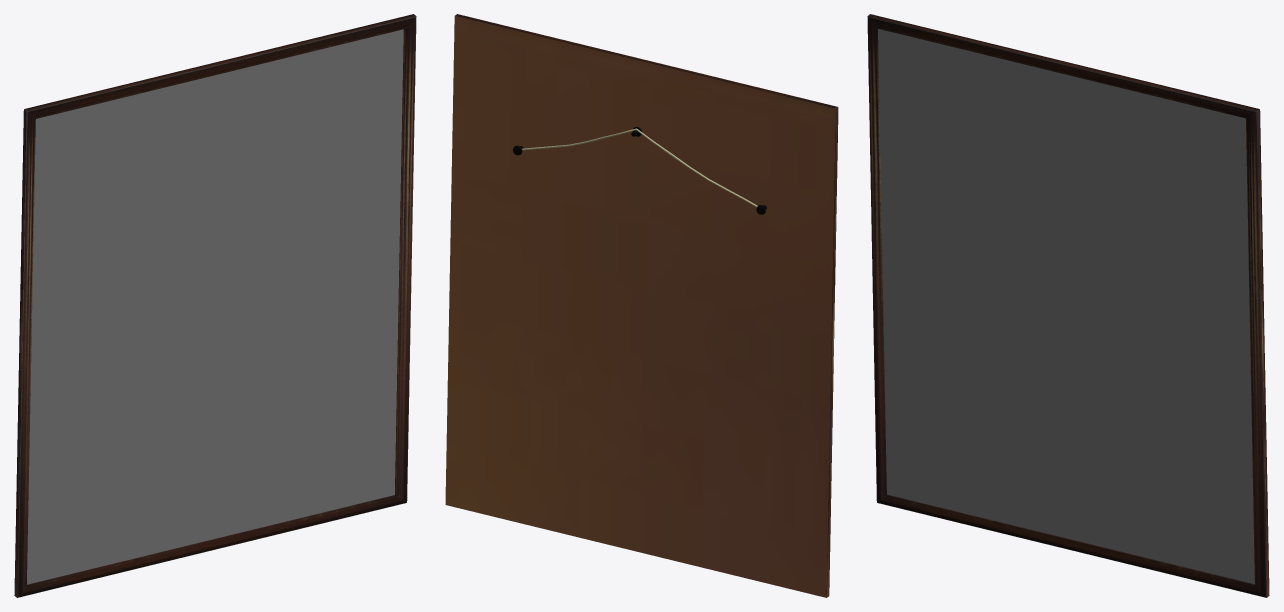
The model's file is Picture1.FBX.
3 renders of one model, left to right at view 1: azimuth 30°, elevation 25°; view 2: azimuth 150°, elevation 25°; view 3: azimuth 330°, elevation 25°, orthographic. The views are drawn at different scales.
Parts seen in each view (by area): view 1: Plane01; view 2: Plane01; view 3: Plane01.
Boxes of the visible parts, x1,y1,x2,y2 form: Plane01: [14, 14, 416, 597]; Plane01: [445, 14, 838, 597]; Plane01: [867, 14, 1269, 597].
Size of the model in its own units: 31.31 by 37.89 by 2.17.
